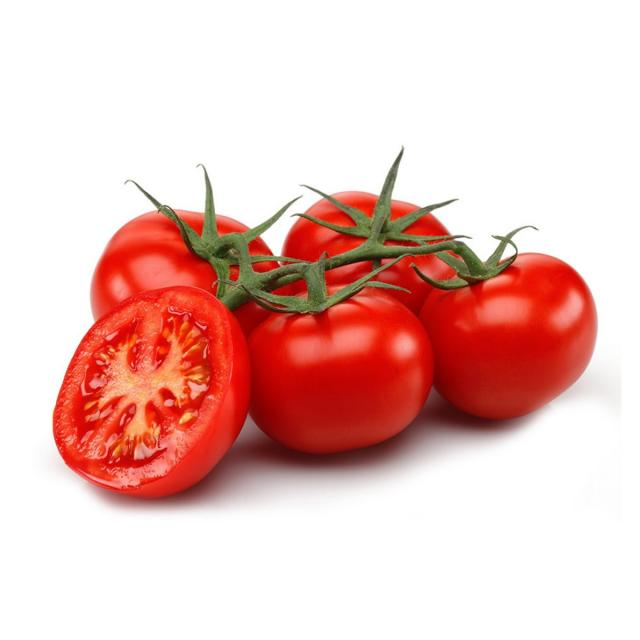tomato: (53, 286, 249, 502), (79, 179, 281, 361), (423, 237, 599, 416), (253, 280, 431, 452), (282, 189, 479, 323)
